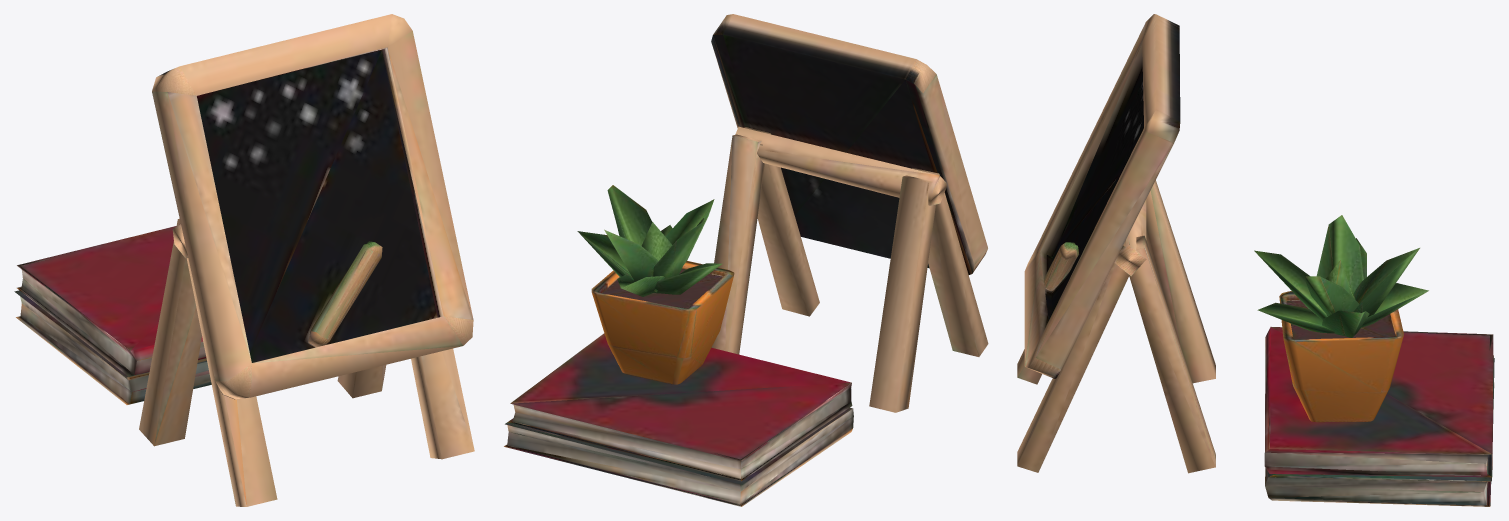
File: course_easel.glb
3 views of the same model, side by side, from view 1: azimuth 30°, elevation 25°; view 2: azimuth 150°, elevation 25°; view 3: azimuth 270°, elevation 25° (orthographic). The views are drawn at different scales.
Bounding box in the file's own units: 1.41 × 1.67 × 2.
Materials: 1 (1 with a texture image).
